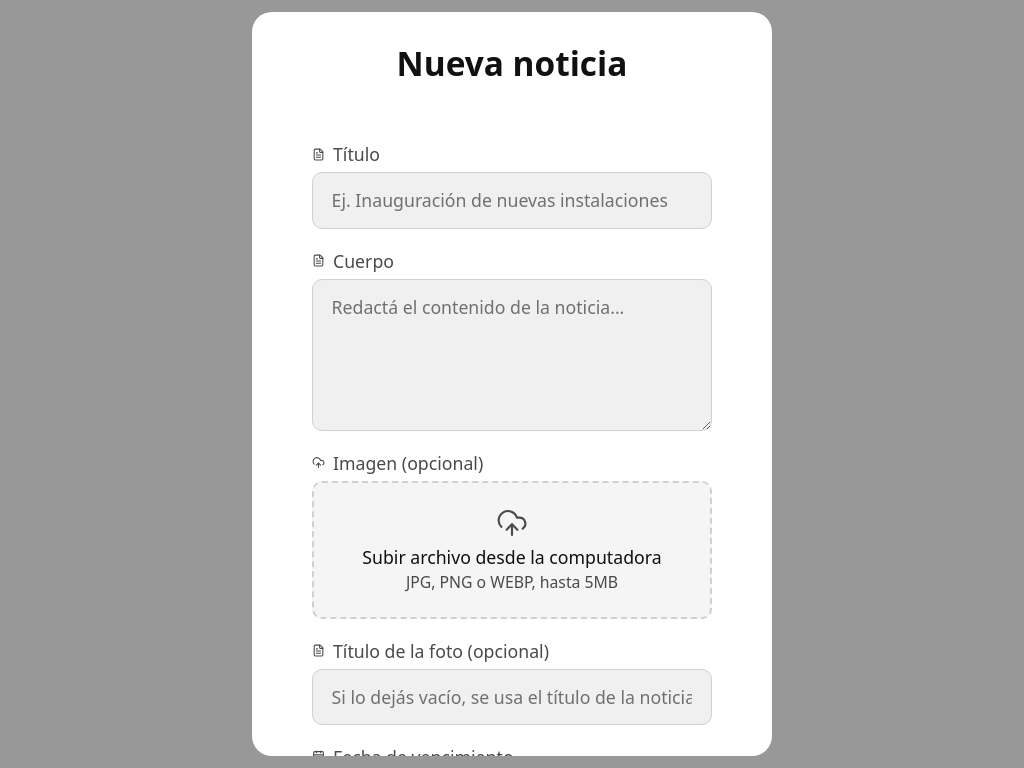
Test: CreateNoticiaForm › no envía si el cuerpo está vacío
Type "Título" into the field with placeholder "Ej. Inauguración de nuevas instalaciones" at [512, 200], box x1=312 y1=172 x2=712 y2=228
(page scrolled)
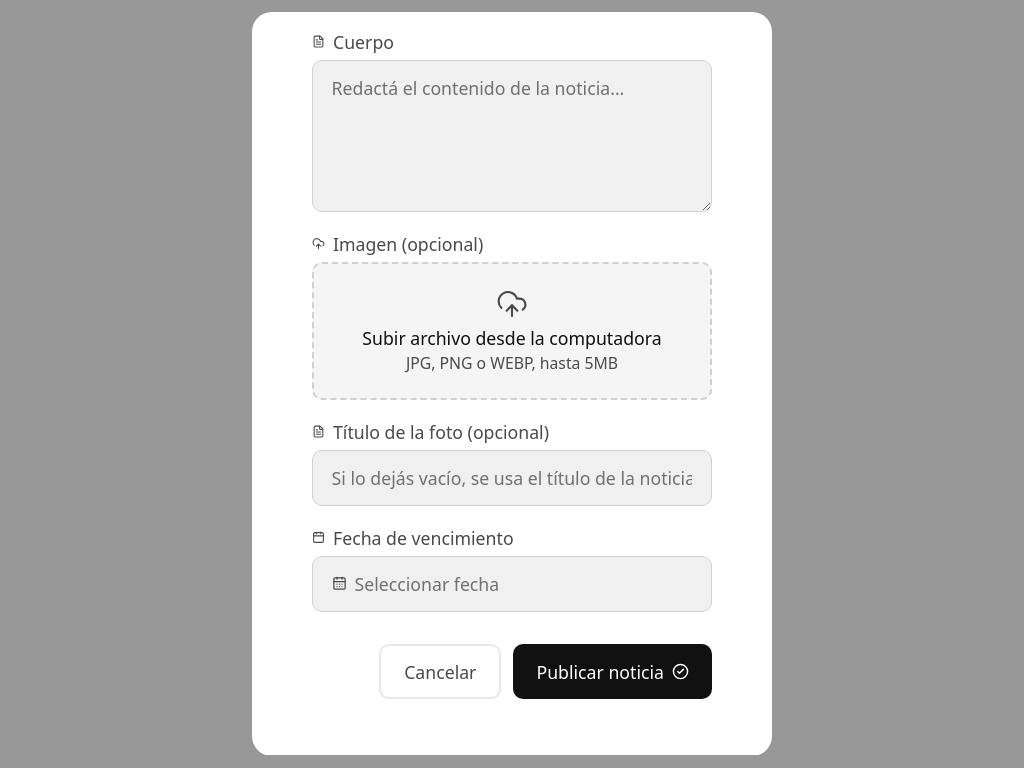
Click the button "Publicar noticia" at [613, 672], box x1=514 y1=644 x2=712 y2=699
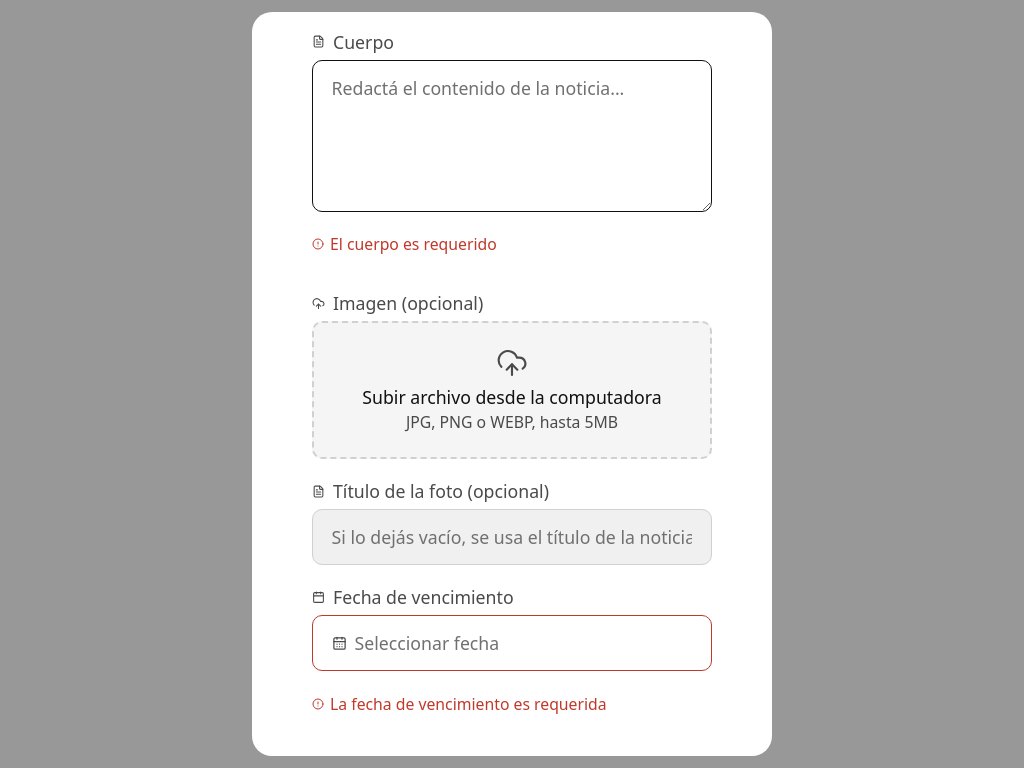
Check: the text "El cuerpo es requerido" is shown, box x1=312 y1=233 x2=497 y2=255
